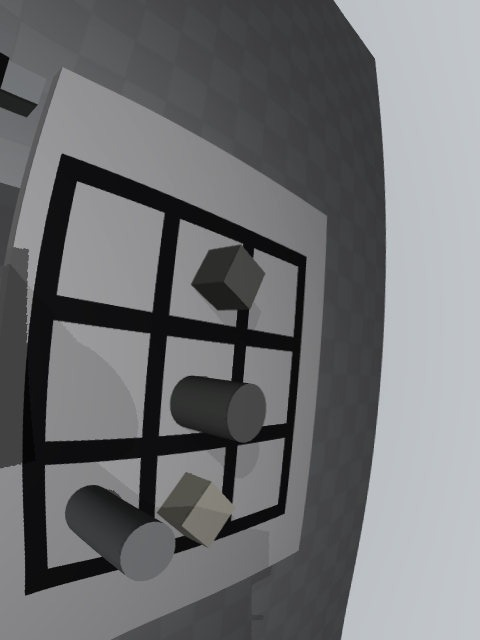can: (65, 485, 175, 581)
cube: (191, 244, 265, 311)
cylinder: (170, 376, 267, 443)
foam: (156, 472, 235, 548)
